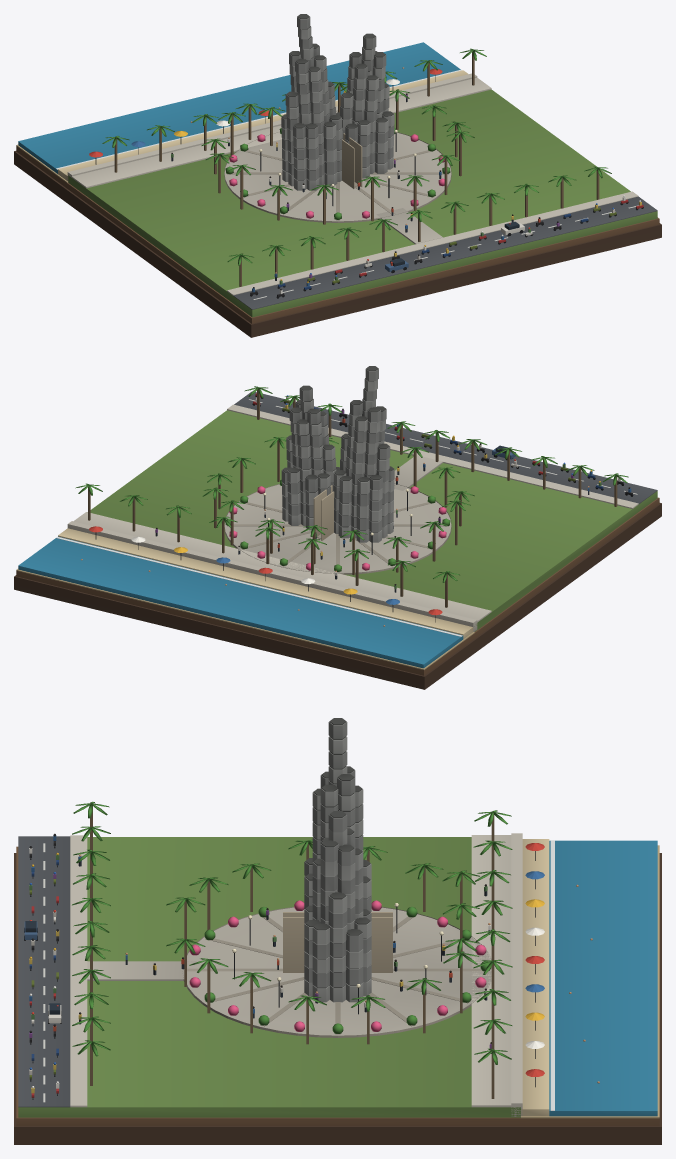
The model's file is thap-nghinh-phong.glb.
3 renders of one model, top to bottom at view 1: azimuth 30°, elevation 25°; view 2: azimuth 150°, elevation 25°; view 3: azimuth 270°, elevation 25°, orthographic. The views are drawn at different scales.
Parts seen in each view (by area): view 1: NP_env_HC_bike_2E2E30; view 2: NP_env_HC_bike_2E2E30; view 3: NP_env_HC_bike_2E2E30.
Part boxes in pixels (x1=…): NP_env_HC_bike_2E2E30: x1=14, y1=14, x2=661, y2=337; NP_env_HC_bike_2E2E30: x1=14, y1=366, x2=661, y2=689; NP_env_HC_bike_2E2E30: x1=14, y1=718, x2=661, y2=1144.
Bounding box in the file's own units: 92 × 41.32 × 92.
1 material, 1 textured.
